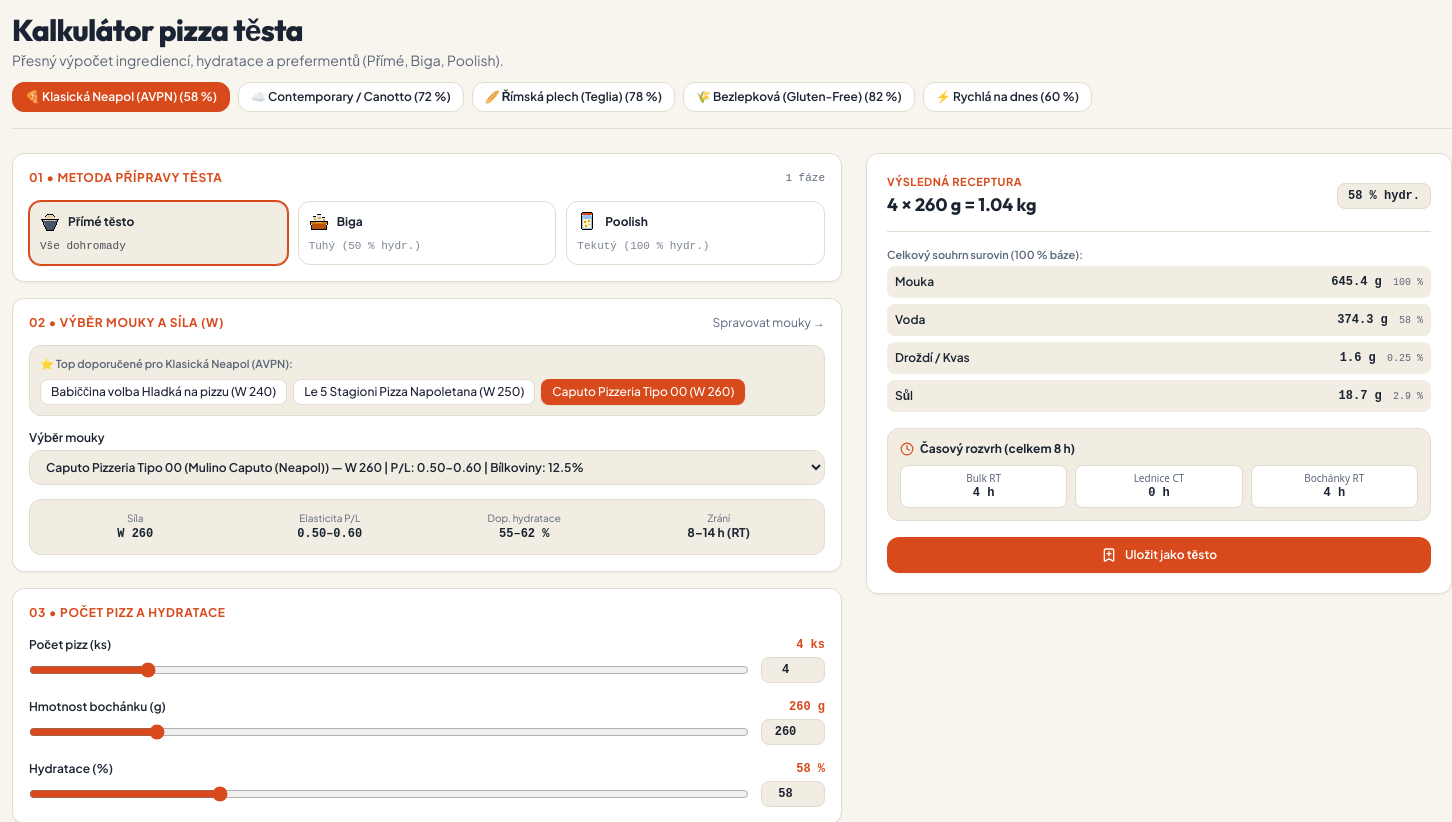
Scenario: CalculatorPage Component › renders dough calculator and recalculates ingredient grams on pizza count change
Expected: the heading "Kalkulátor pizza těsta" is shown, [12, 11, 303, 49]
Expected: the heading "4 × 260 g = 1.04 kg" is shown, [887, 190, 1036, 218]
Note: Change pizza count to 6
Replace the text in the 1st number field with "6" at (793, 670), box [761, 657, 825, 683]
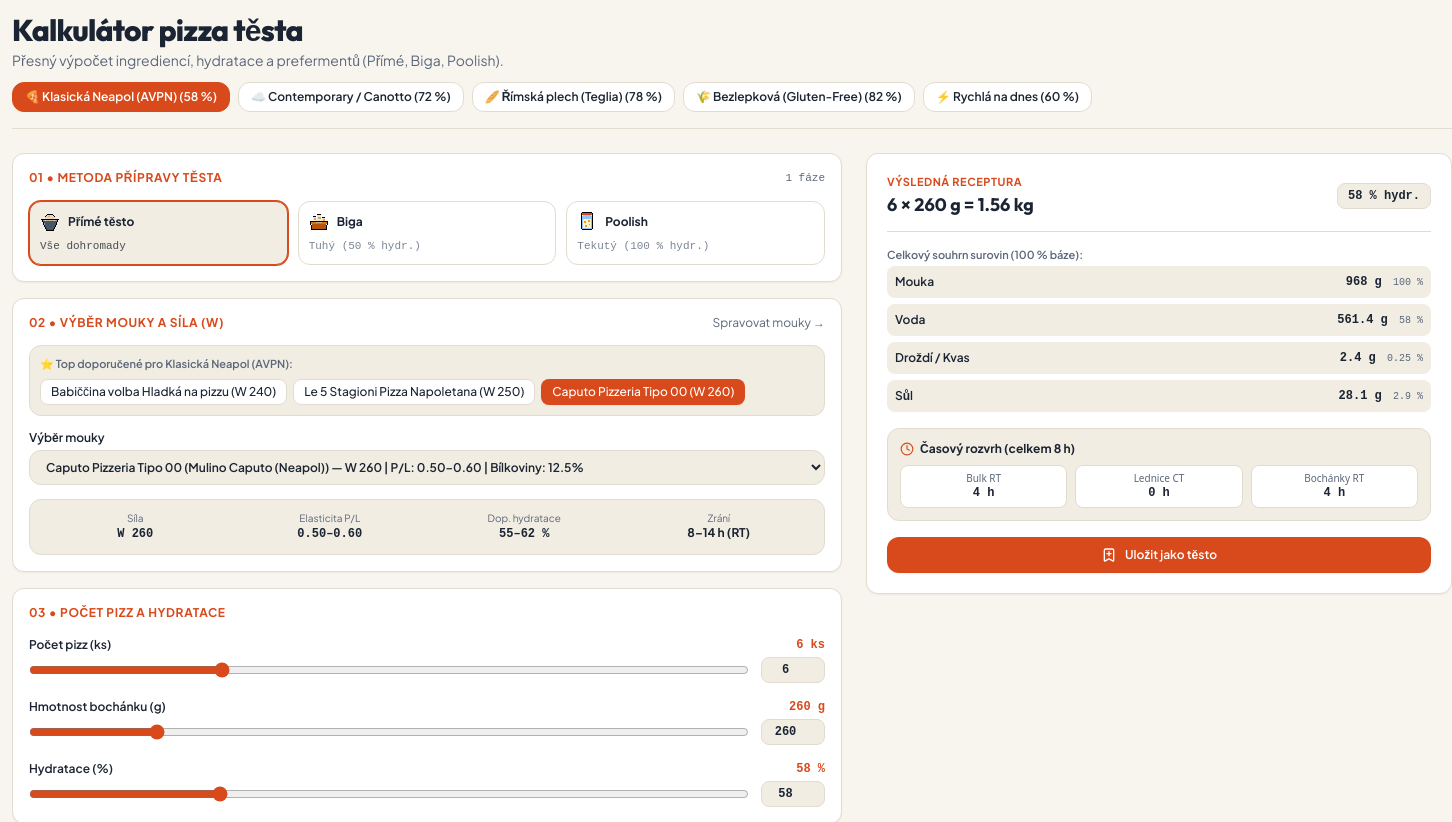
Result: the heading "6 × 260 g = 1.56 kg" is shown at [887, 190, 1034, 218]
